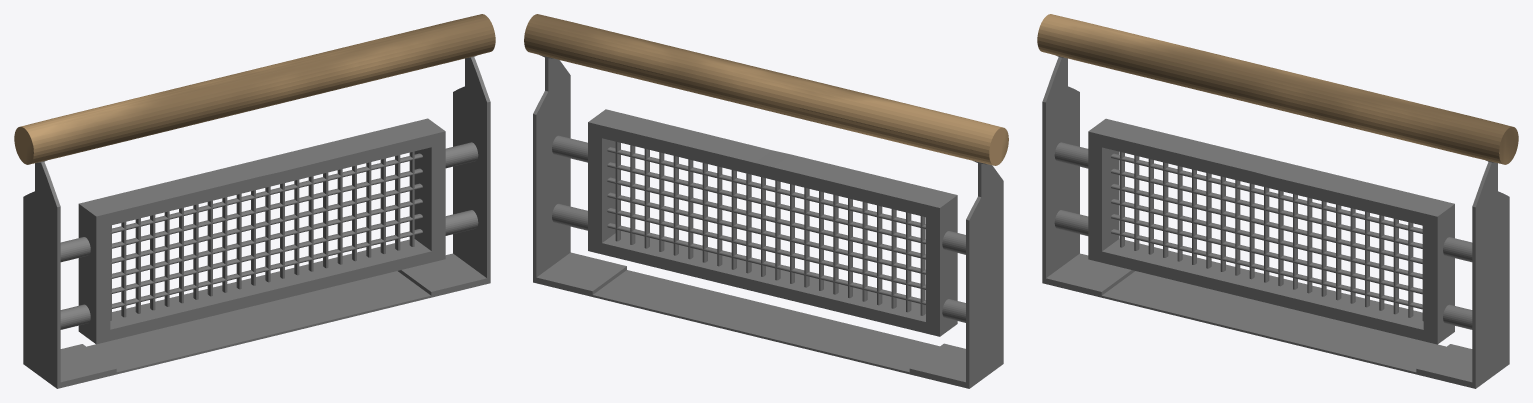
File: Railings12.fbx
3 renders of one model, left to right at view 1: azimuth 30°, elevation 25°; view 2: azimuth 150°, elevation 25°; view 3: azimuth 330°, elevation 25°, orthographic.
Parts seen in each view (by area): view 1: Cube, Cube.001, Cylinder, Cube.003, Cylinder.001; view 2: Cube, Cube.001, Cylinder, Cube.003, Cylinder.001; view 3: Cube, Cube.001, Cylinder, Cube.003, Cylinder.001.
Boxes of the visible parts, bbox=[...] form: Cube: bbox=[23, 55, 490, 388]; Cube.001: bbox=[78, 118, 445, 344]; Cylinder: bbox=[14, 14, 495, 164]; Cube.003: bbox=[110, 151, 422, 320]; Cylinder.001: bbox=[60, 142, 478, 329]; Cube: bbox=[533, 55, 1003, 388]; Cube.001: bbox=[588, 109, 957, 336]; Cylinder: bbox=[524, 14, 1008, 165]; Cube.003: bbox=[607, 141, 925, 315]; Cylinder.001: bbox=[552, 135, 965, 322]; Cube: bbox=[1042, 55, 1509, 388]; Cube.001: bbox=[1088, 118, 1454, 344]; Cylinder: bbox=[1037, 14, 1518, 164]; Cube.003: bbox=[1111, 152, 1423, 321]; Cylinder.001: bbox=[1054, 142, 1472, 329].
Size of the model in its own units: 465 by 241 by 59.31.
Materials: 3 (1 with a texture image).
